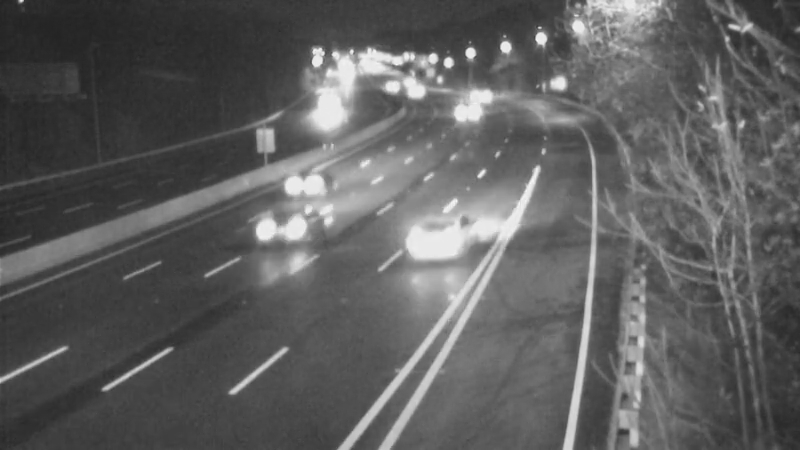vehicle: (263, 141, 343, 221), (246, 189, 326, 269), (390, 197, 470, 277), (391, 68, 441, 118), (454, 71, 504, 121), (435, 86, 485, 136), (295, 86, 345, 136)
